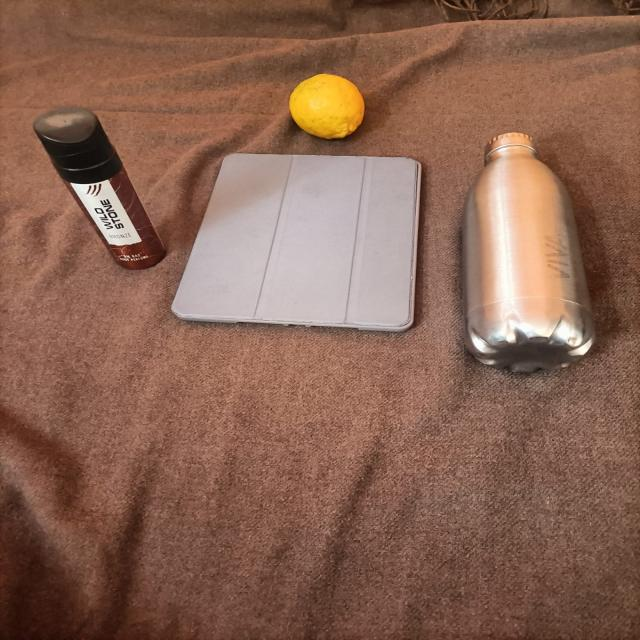bottle: (453, 142, 612, 397)
orange: (280, 67, 379, 143)
spray: (16, 97, 171, 288)
tablet: (165, 144, 430, 351)
